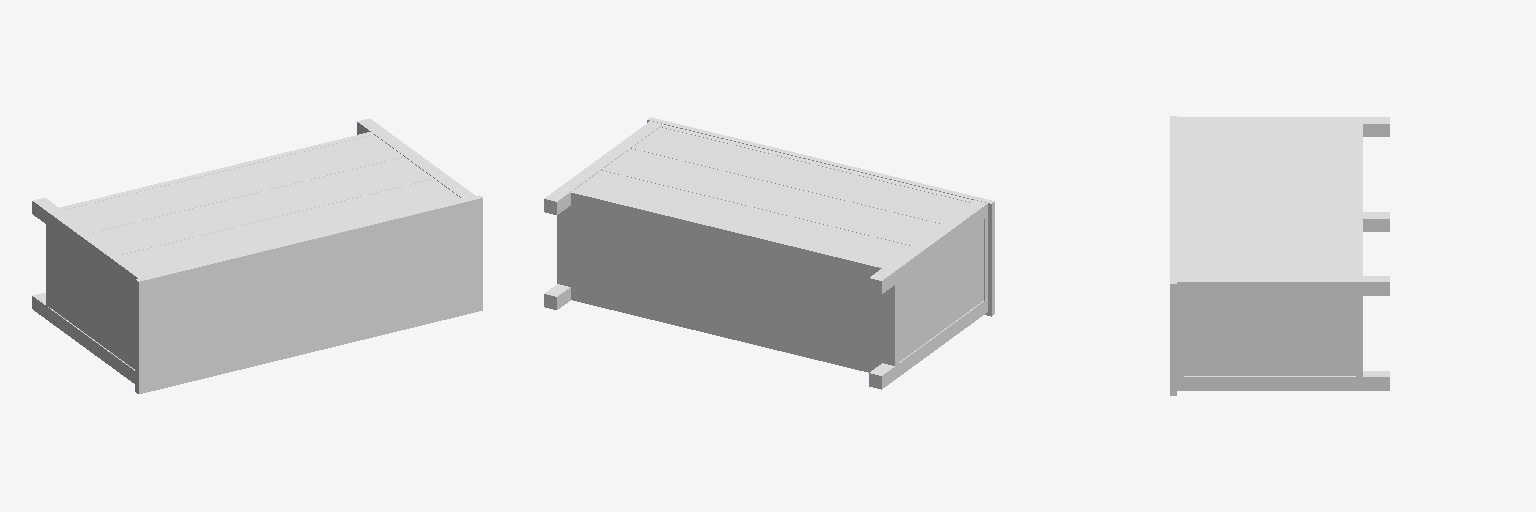
The model's file is 14310_Farmhouse_6_Drawer_Dresser-white_v1_l1.obj.
3 renders of one model, left to right at view 1: azimuth 30°, elevation 25°; view 2: azimuth 150°, elevation 25°; view 3: azimuth 270°, elevation 25°, orthographic.
Parts seen in each view (by area): view 1: Box22751, Box22755, Box22753, Box22757, Box22756, Box22758, Box22752, Box22764, Box22762, Box22765; view 2: Box22752, Box22755, Box22753, Box22757, Box22751, Box22756, Box22758, Box22765, Box22762, Box22764, Box22759; view 3: Box22755, Box22754, Box22758, Box22759, Box22751, Box22757, Box22752, Box22765, Box22762, Box22764, Box22756.
Part boxes in pixels (bbox=[...]): Box22751: bbox=[135, 195, 482, 393]; Box22755: bbox=[63, 135, 458, 272]; Box22753: bbox=[50, 228, 134, 368]; Box22757: bbox=[32, 198, 150, 288]; Box22756: bbox=[32, 293, 134, 383]; Box22758: bbox=[357, 118, 474, 198]; Box22752: bbox=[46, 129, 385, 307]; Box22764: bbox=[120, 176, 433, 254]; Box22762: bbox=[90, 154, 403, 232]; Box22765: bbox=[149, 195, 475, 274]; Box22752: bbox=[557, 187, 898, 372]; Box22755: bbox=[575, 127, 970, 265]; Box22753: bbox=[899, 220, 983, 361]; Box22757: bbox=[869, 200, 987, 294]; Box22751: bbox=[647, 117, 994, 316]; Box22756: bbox=[869, 299, 987, 389]; Box22758: bbox=[544, 121, 662, 214]; Box22765: bbox=[649, 121, 987, 300]; Box22762: bbox=[602, 168, 915, 245]; Box22764: bbox=[631, 146, 944, 223]; Box22759: bbox=[544, 284, 570, 309]; Box22755: bbox=[1184, 124, 1355, 275]; Box22754: bbox=[1184, 296, 1355, 375]; Box22758: bbox=[1177, 276, 1389, 295]; Box22759: bbox=[1177, 371, 1389, 390]; Box22751: bbox=[1170, 116, 1176, 395]; Box22757: bbox=[1177, 117, 1389, 136]; Box22752: bbox=[1356, 124, 1362, 389]; Box22765: bbox=[1177, 124, 1183, 389]; Box22762: bbox=[1295, 124, 1301, 275]; Box22764: bbox=[1235, 124, 1241, 275]; Box22756: bbox=[1363, 212, 1389, 231].
Bounding box in the file's own units: 217 × 68.11 × 120.